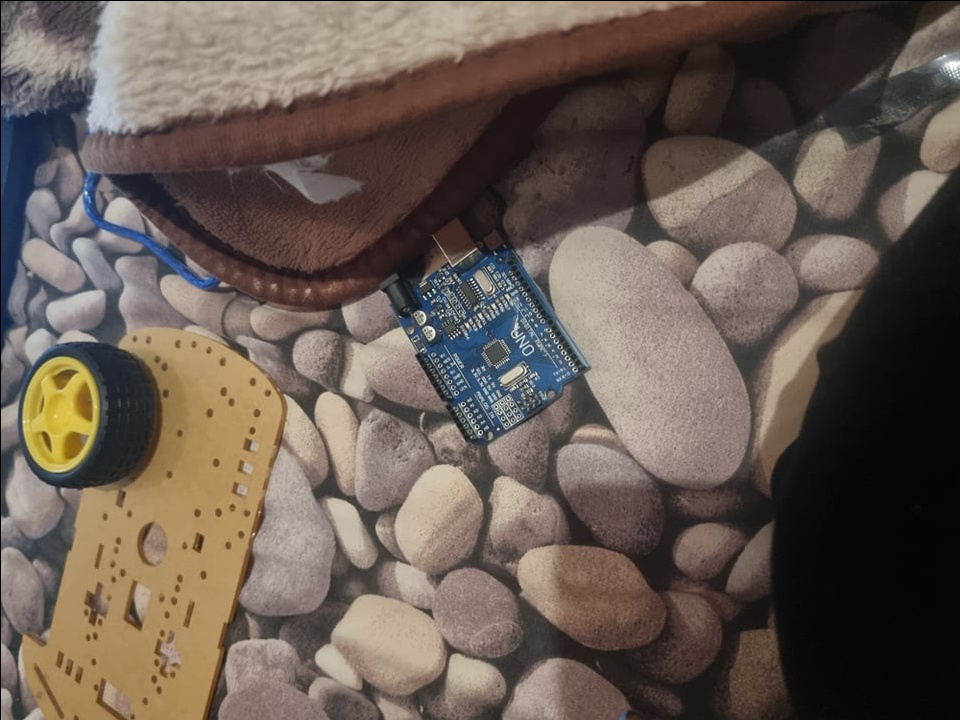UNO R3: (376, 217, 593, 443)
